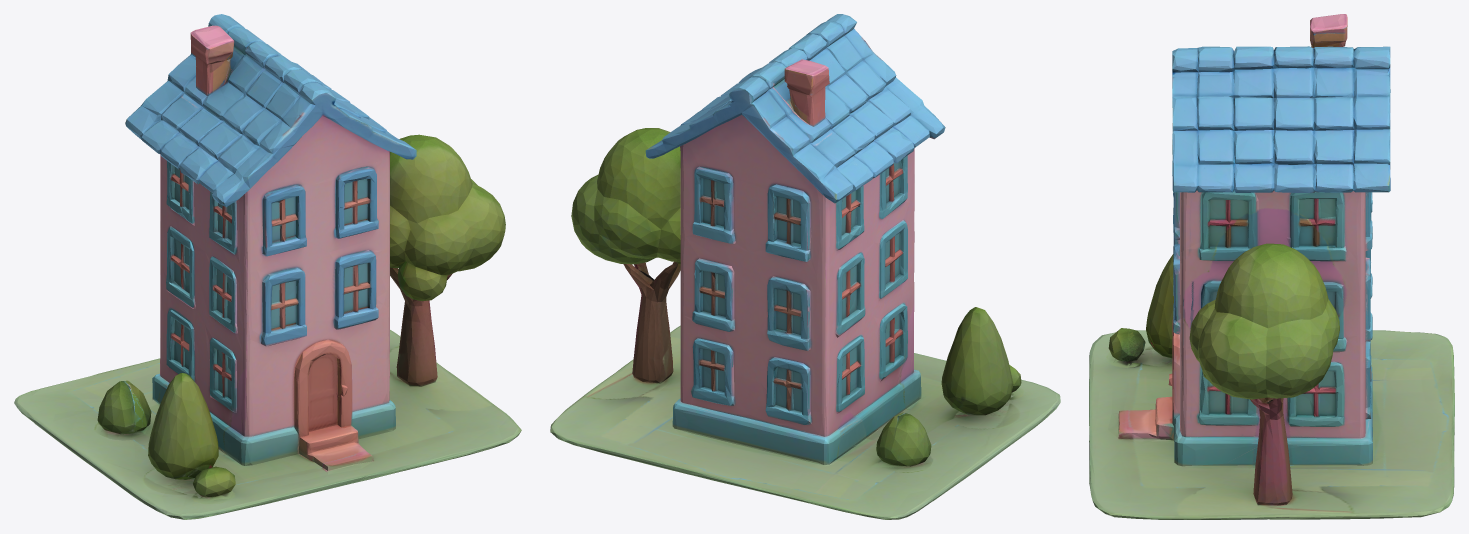
File: apartment.fbx
The picture shows the model from 3 angles, left to right: view 1: azimuth 30°, elevation 25°; view 2: azimuth 150°, elevation 25°; view 3: azimuth 270°, elevation 25°; orthographic projection. The views are drawn at different scales.
Visible parts, largest first — view 1: temp; view 2: temp; view 3: temp.
Part boxes in pixels (x1,y1,x2,y2): temp: (14, 14, 521, 519); temp: (550, 14, 1060, 519); temp: (1089, 14, 1454, 519).
Bounding box in the file's own units: 200 × 179 × 150.
Materials: 1 (1 with a texture image).
